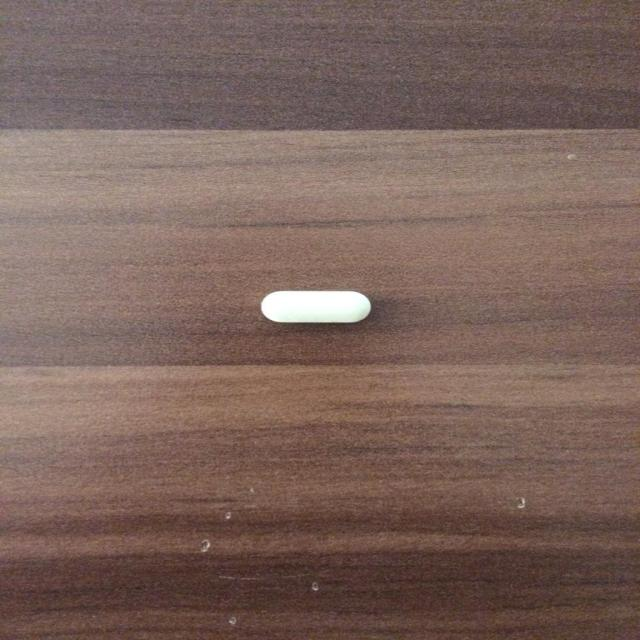pills: (250, 279, 381, 334)
